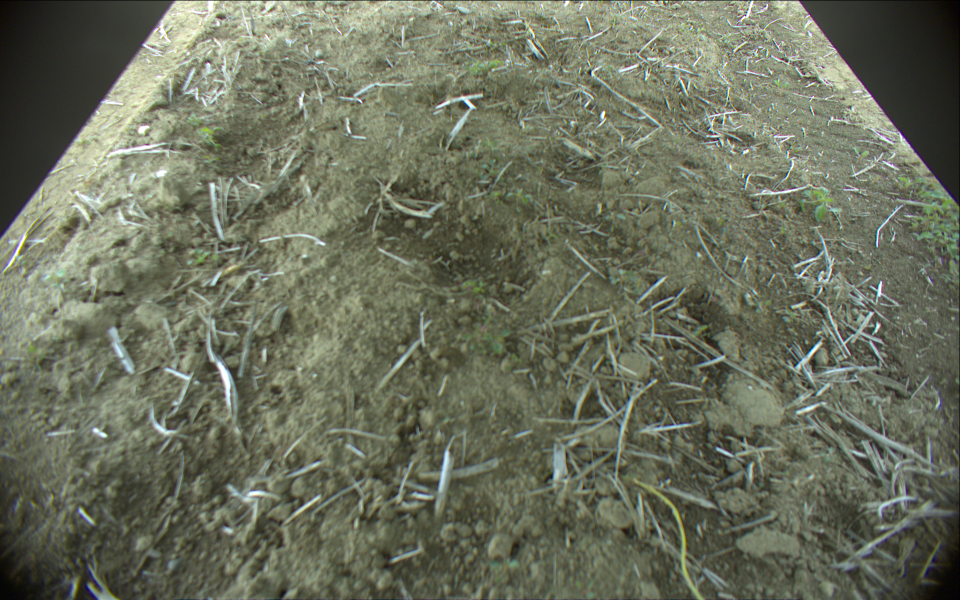aspa: (633, 478, 709, 600)
